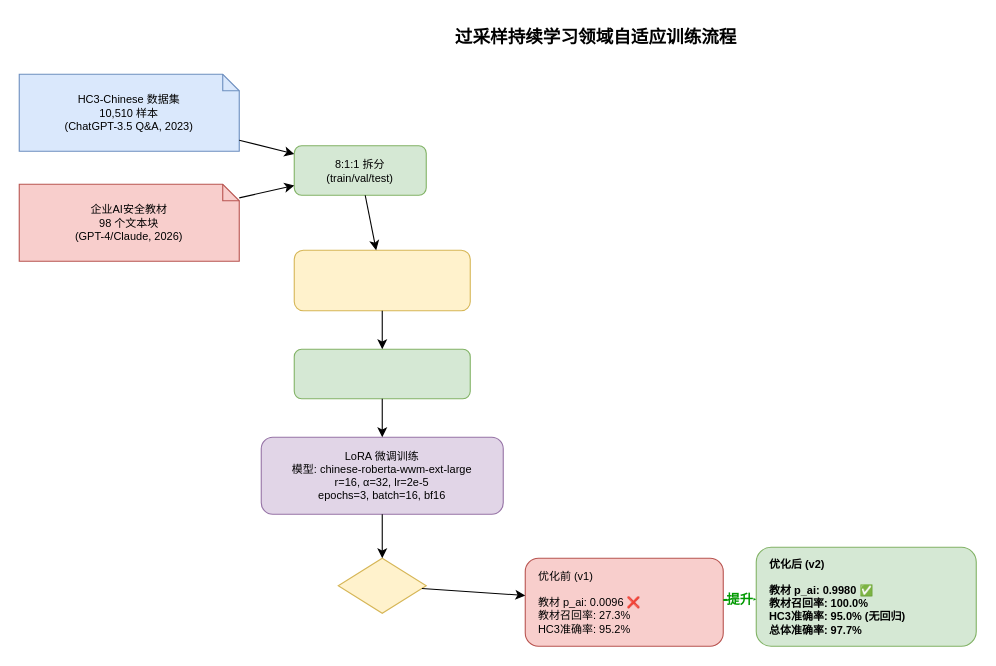
This 996x666 diagram has some shape labels left out. Here are the shapes that lost their labels. From the top down, the centre of each, then its label:
At [381,280]: "10x 过采样 82→820 (训练集) 占训练数据 7.2%".
At [381,373]: "合并训练集 10,510 + 820 = 11,330".
At [381,585]: "评估".
